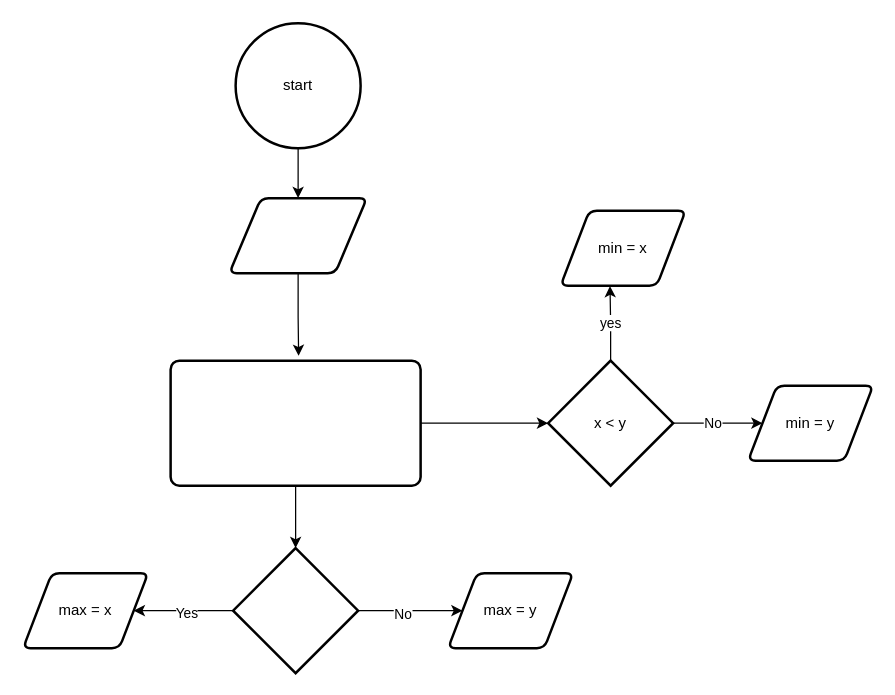
The diagram is 895 pixels wide and 695 high, and some of its shapes have lost their labels. Each missing label, with the centre of its shape:
"a1, a2, a3, a4" goes at point (298, 235).
"x = if(a1>a2, a1, a2) y = if(a3>a4, a3, a4)" goes at point (295, 422).
"x > y" goes at point (295, 610).
